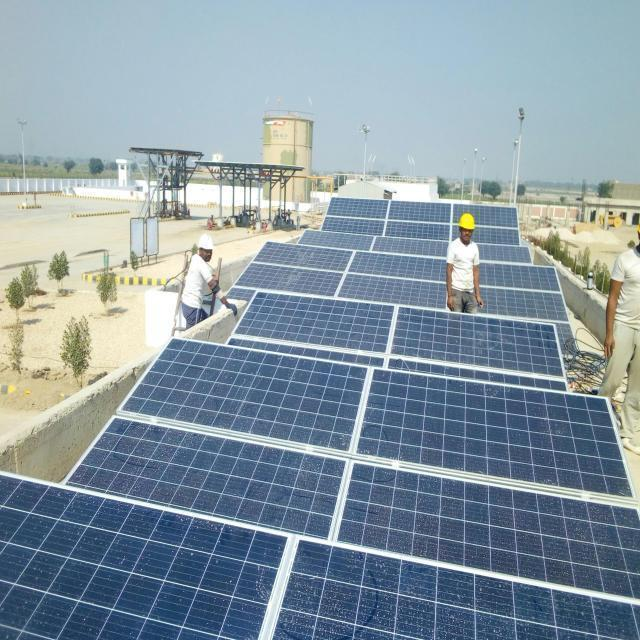Surface Contaminant: (64, 416, 638, 597), (121, 337, 632, 495), (0, 474, 287, 639), (272, 539, 638, 639), (226, 291, 566, 390), (224, 240, 445, 308), (478, 262, 566, 319), (297, 229, 447, 256), (477, 244, 531, 262)
